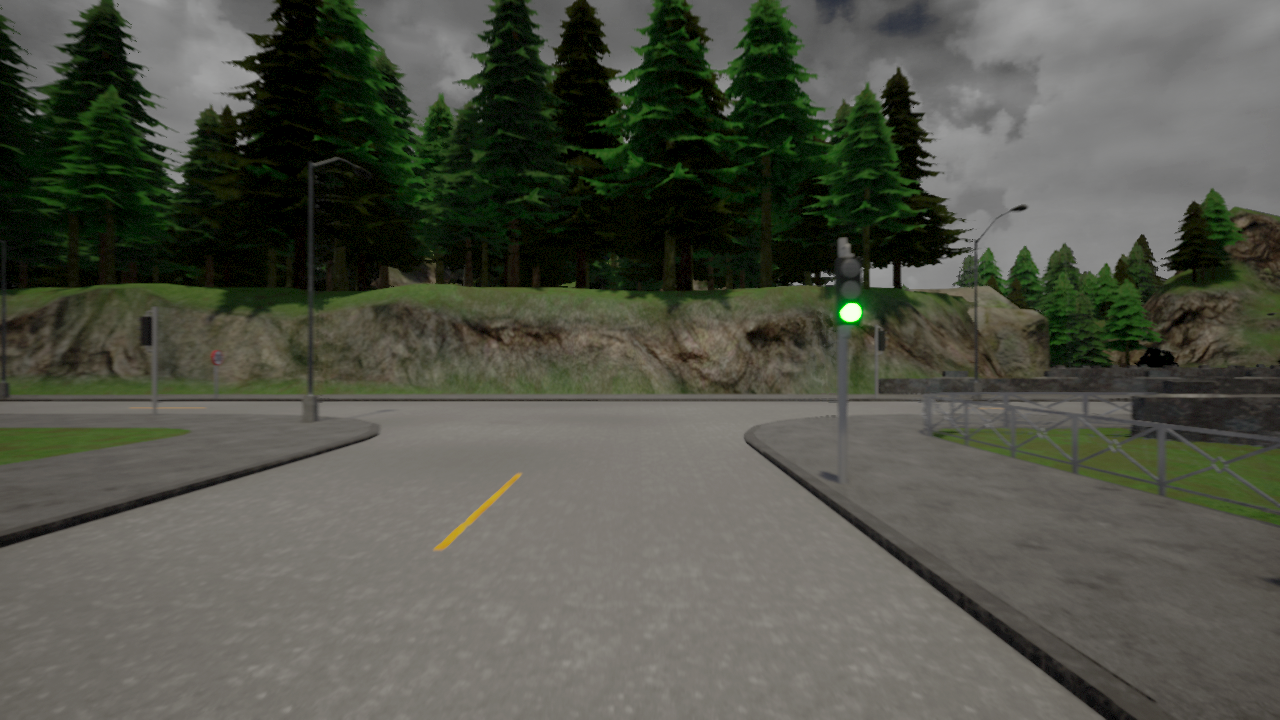green: (832, 252, 867, 325)
